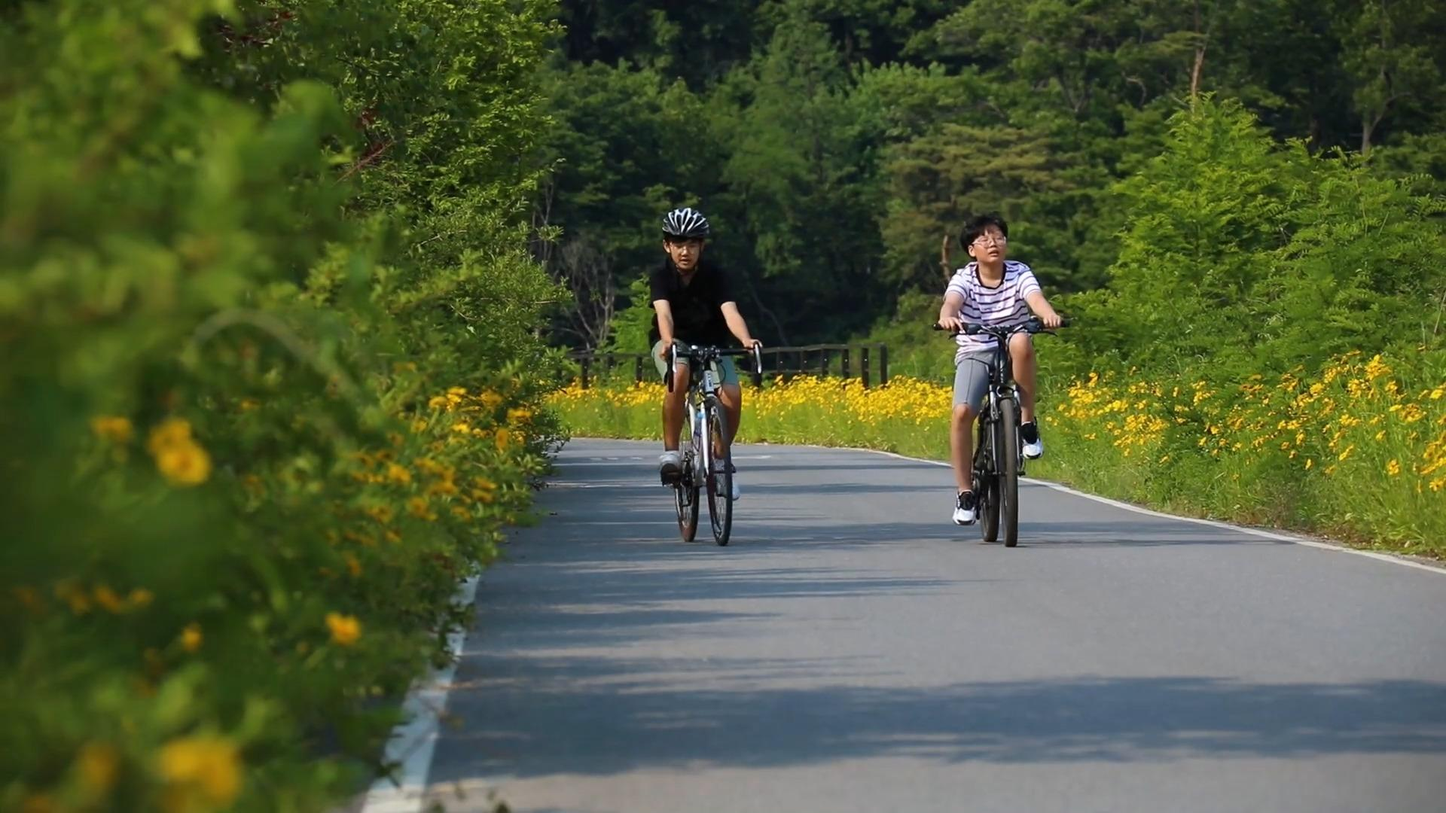bicyclist: (931, 210, 1072, 547), (649, 205, 764, 549)
helmet: (661, 206, 711, 278)
no-helmet: (959, 210, 1008, 263)
